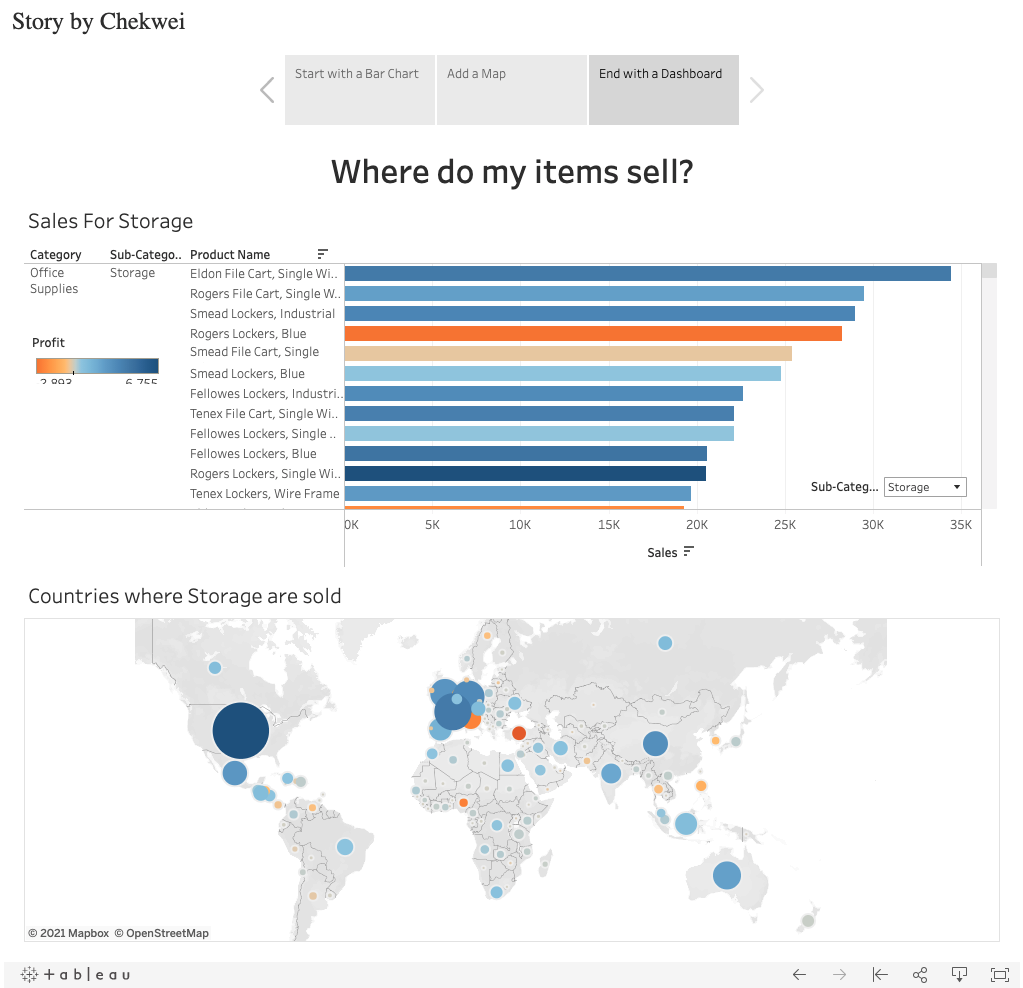

What the dashboard file says about the page in this screenshot:
{"tool":"tableau","page":{"name":"Dashboard 1","canvas":[1000,1000],"units":"permille","ordinal":0},"visuals":[{"type":"title","box":[7.5,6.4,985,41.3]},{"type":"worksheet","title":"Sheet 1","mark":"Automatic","rows":["Category","Sub-Category","Product Name"],"cols":["Sales"],"box":[7.5,47.7,985,473]},{"type":"legend","title":"Sheet 1","param":"[federated.0vgx96g13pyjdl167iv1q0cz9h73].[sum:Profit:qk]","box":[19.6,242.5,131,60.4]},{"type":"filter","title":"Sheet 1","param":"[federated.0vgx96g13pyjdl167iv1q0cz9h73].[none:Sub-Category:nk]","box":[798.9,416.5,157.2,41.3]},{"type":"worksheet","title":"Sheet 2","mark":"Automatic","box":[7.5,520.7,985,473]}]}

Visuals, with their boxes on the dashboard's canvas, which has no fixed pixel size, in thousandths of its width and height (x1, y1, x2, y2). These are canvas units, not pixel positions in the 1023x988 screenshot, which may show the page scaled, cropped or inside an application window:
title: crop(8, 6, 992, 48)
"Sheet 1" worksheet: crop(8, 48, 992, 521)
"Sheet 1" legend: crop(20, 242, 151, 303)
"Sheet 1" filter: crop(799, 416, 956, 458)
"Sheet 2" worksheet: crop(8, 521, 992, 994)
